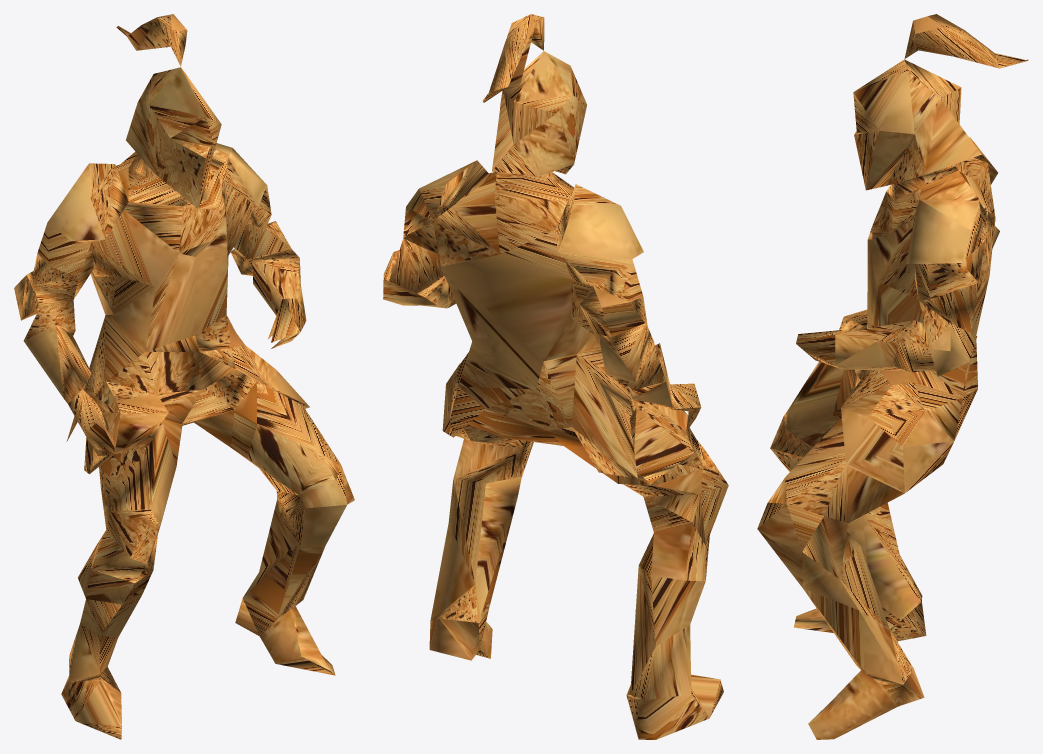
File: ae_knight_rider_bronze_lod0.glb
The picture shows the model from 3 angles, left to right: view 1: azimuth 30°, elevation 25°; view 2: azimuth 150°, elevation 25°; view 3: azimuth 270°, elevation 25°; orthographic projection. The views are drawn at different scales.
Visible parts, largest first — view 1: output_unwrapped; view 2: output_unwrapped; view 3: output_unwrapped.
Boxes of the visible parts, x1,y1,x2,y2 form: output_unwrapped: [14, 14, 354, 739]; output_unwrapped: [383, 14, 728, 739]; output_unwrapped: [757, 14, 1028, 739].
Bounding box in the file's own units: 0.7999 × 1.9 × 0.6969.
Materials: 1 (1 with a texture image).
